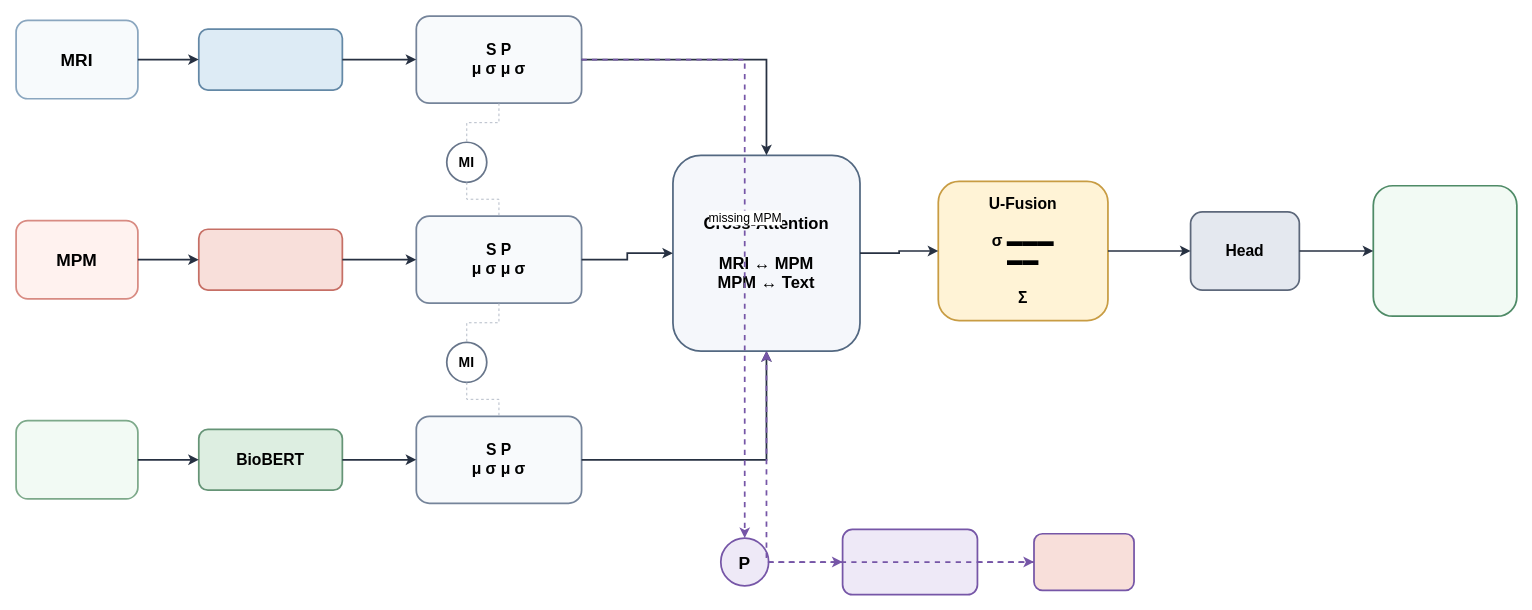
This 1532x610 diagram has some shape labels left out. Here are the shapes that lost their labels. From the top down, the centre of each, then its label:
At (270,59): "MedCLIP".
At (270,259): "DINOv2 ▰ ▰ ▰".
At (1444,250): "PIK3CA ──────── MAP3K3".
At (76,459): "Text".
At (909,561): "Reconstructor Gθ".
At (1083,561): "MPM̂".
